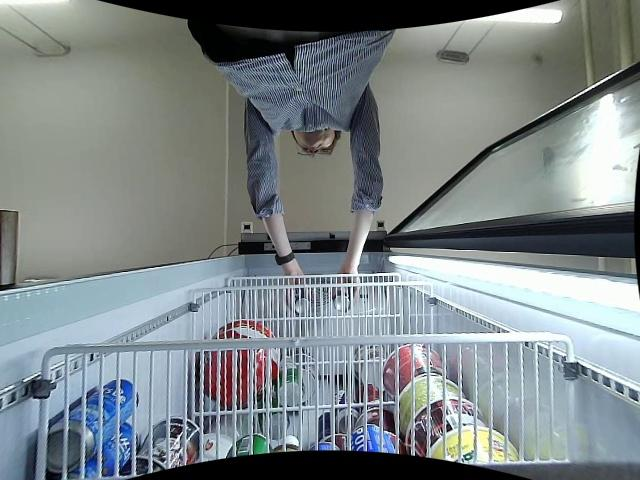00_hand: (331, 269, 362, 300), (282, 272, 309, 305)
